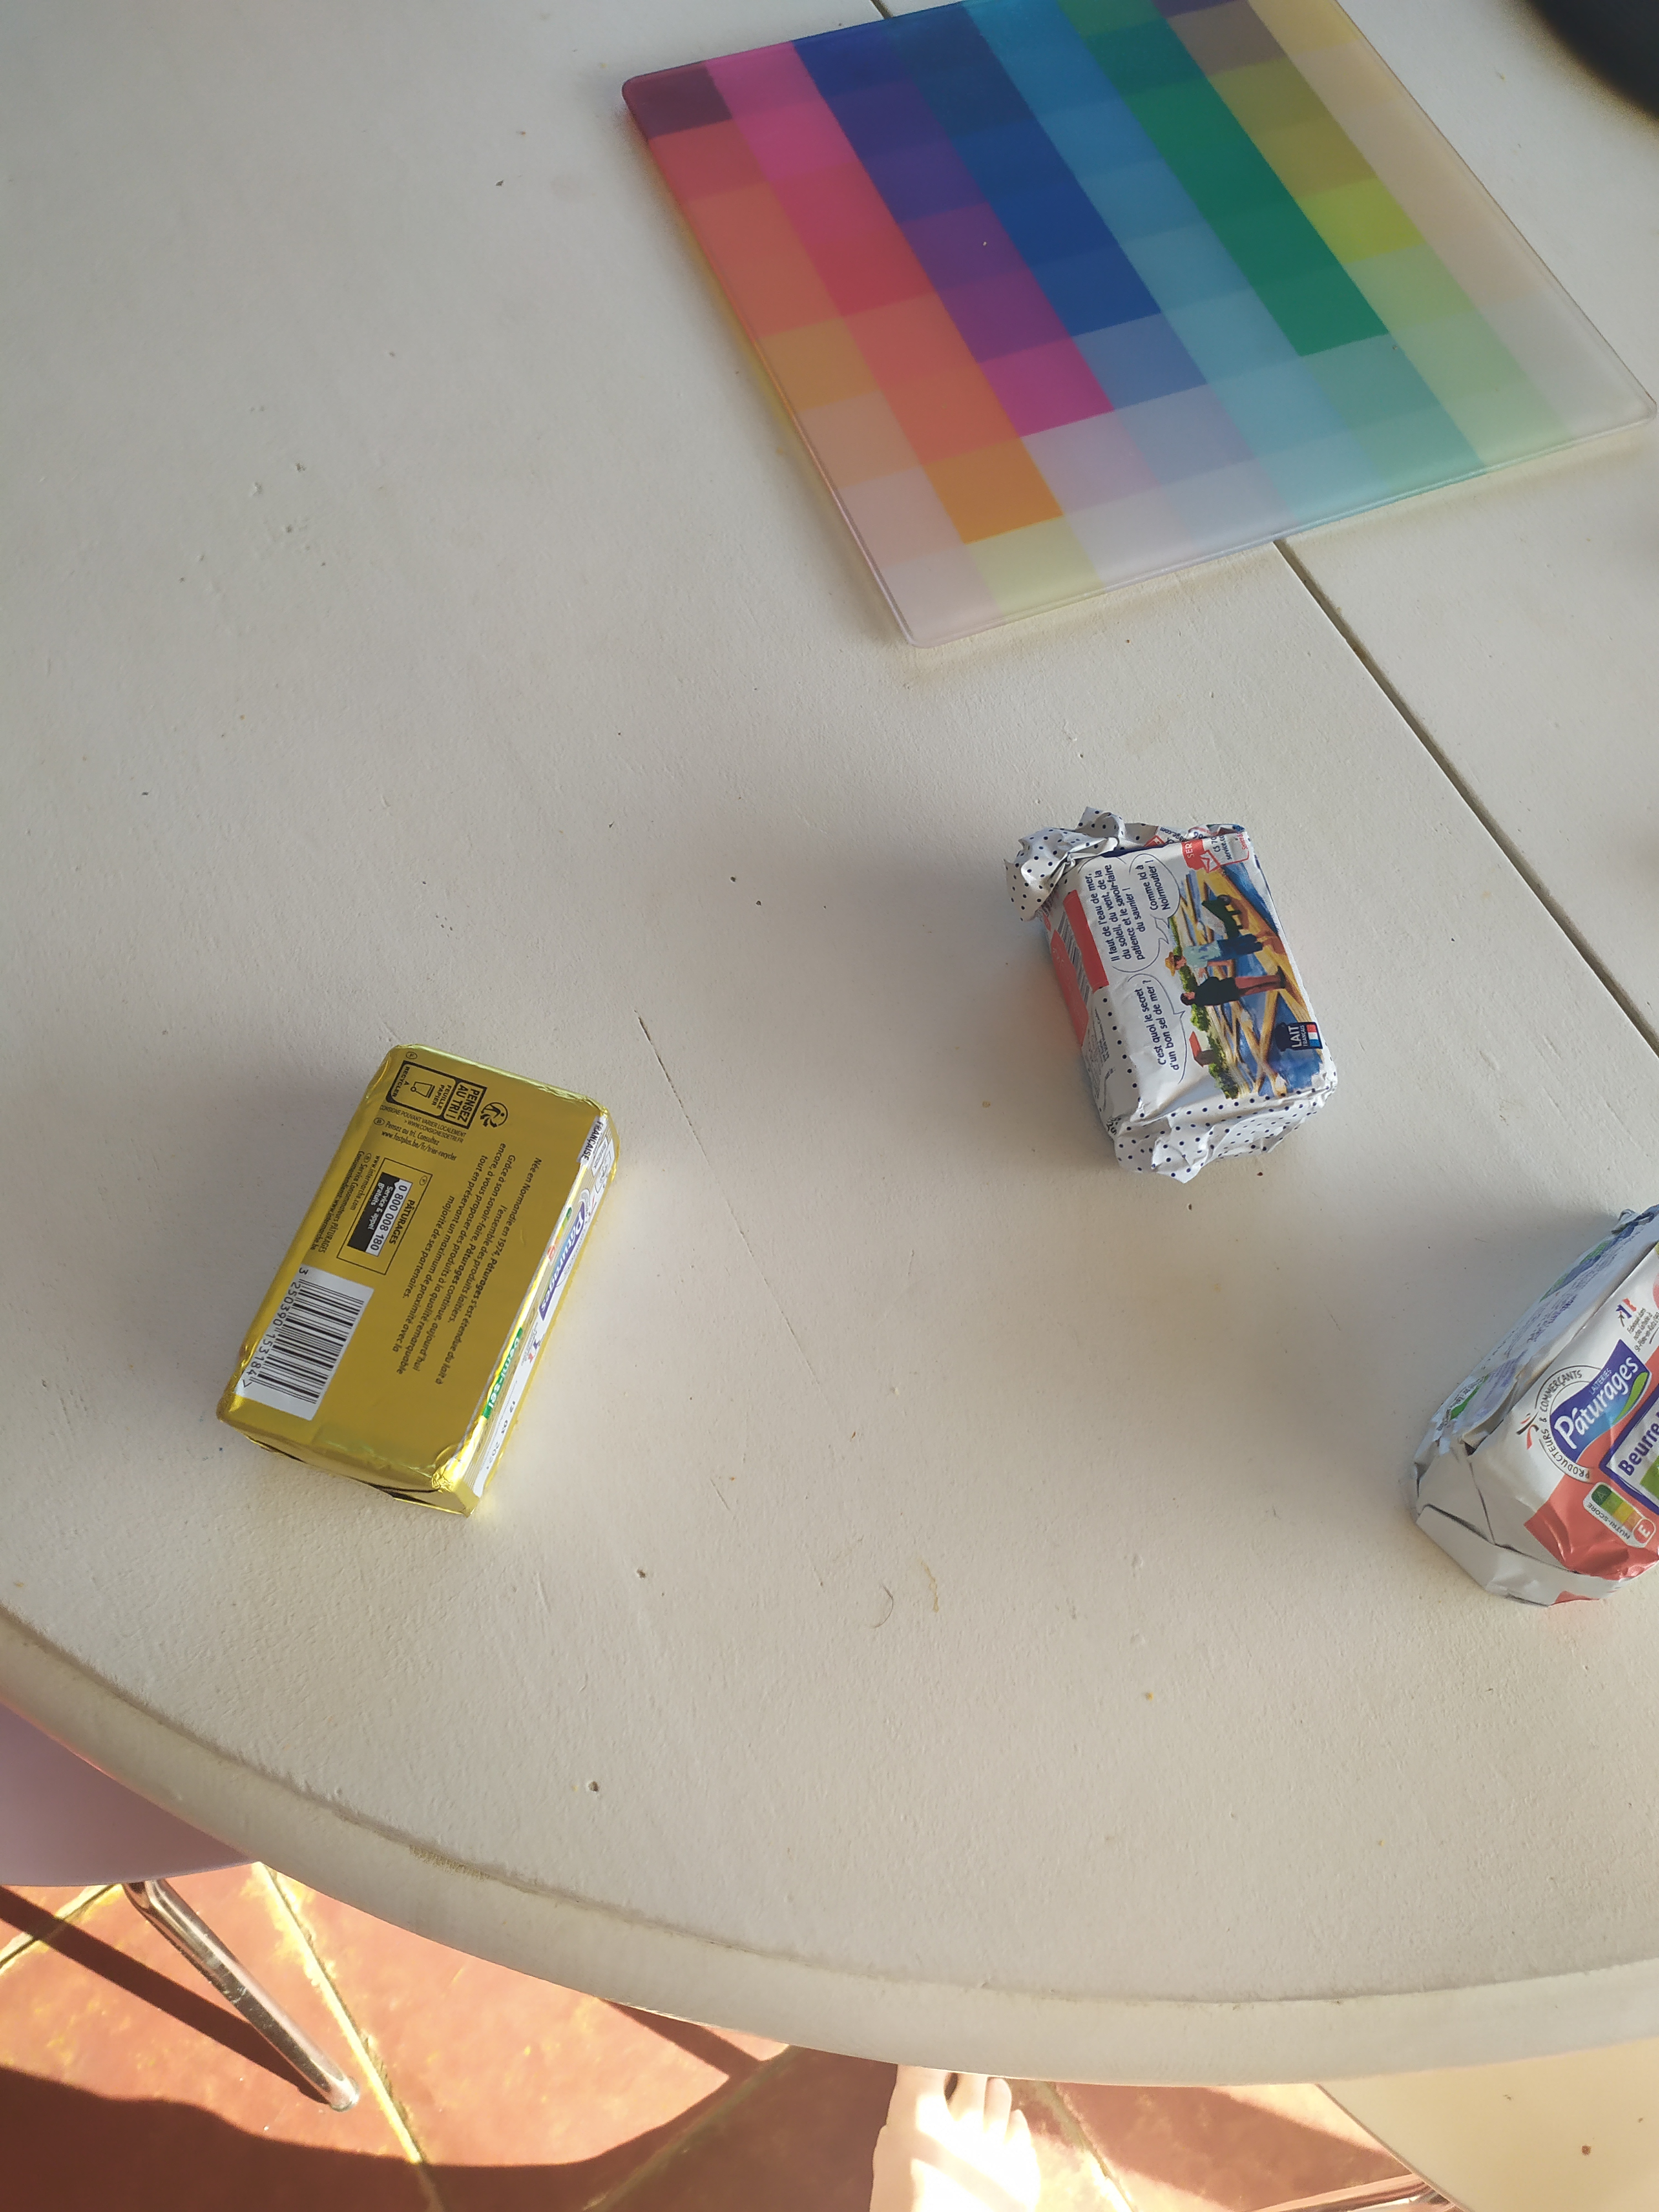butter: (221, 1047, 622, 1514), (993, 806, 1340, 1184), (1412, 1209, 1659, 1599)
